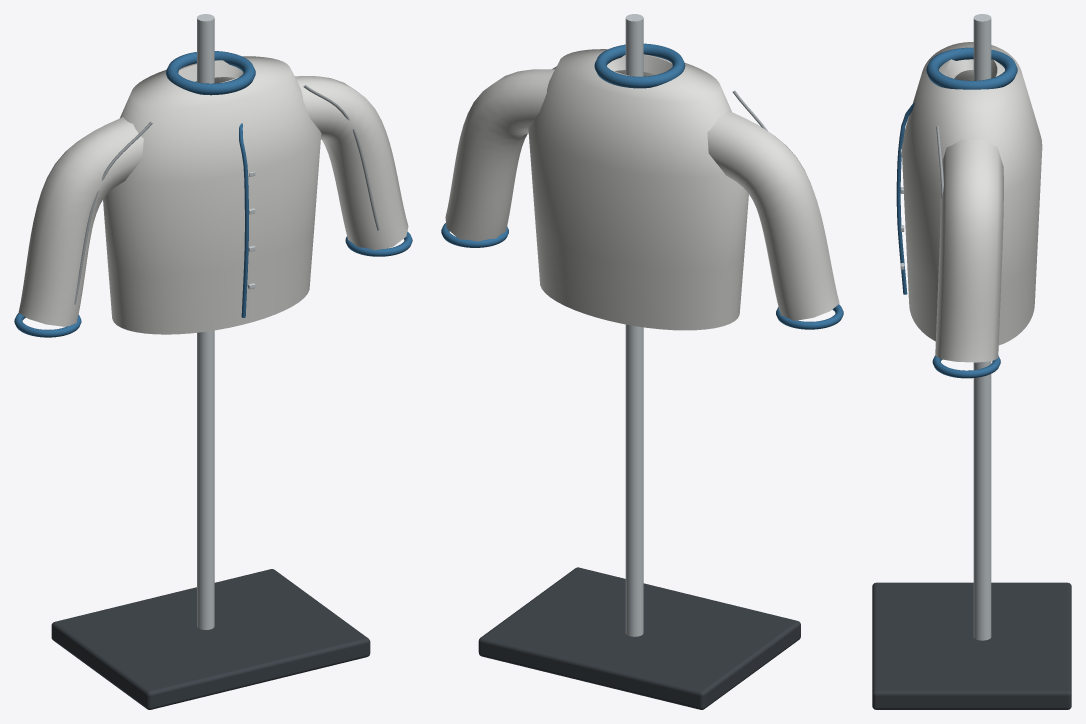
Rendered from fencing-club-and-tournament-piste-fencing-jacket-75190be4__31227.glb.
3 renders of one model, left to right at view 1: azimuth 30°, elevation 25°; view 2: azimuth 150°, elevation 25°; view 3: azimuth 270°, elevation 25°, orthographic.
Parts seen in each view (by area): view 1: fencing-jacket; view 2: fencing-jacket; view 3: fencing-jacket.
Part boxes in pixels (x1,y1,x2,y2): fencing-jacket: (14,14,412,709); fencing-jacket: (441,14,843,709); fencing-jacket: (872,14,1071,709).
Size of the model in its own units: 0.87 by 1.34 by 0.38.
